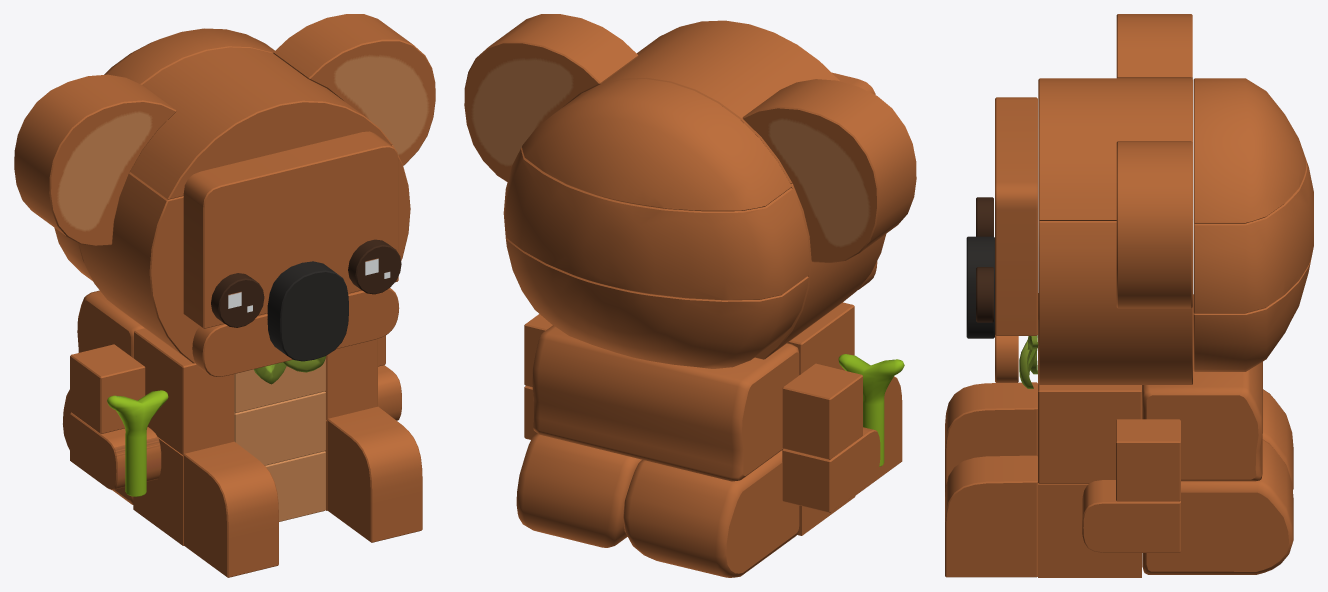
The model's file is level_184.fbx.
The picture shows the model from 3 angles, left to right: view 1: azimuth 30°, elevation 25°; view 2: azimuth 150°, elevation 25°; view 3: azimuth 270°, elevation 25°; orthographic projection. The views are drawn at different scales.
Parts seen in each view (by area): view 1: Cube_L1_4.003, Cube_L1_6.003, Cube_L1.003, Cube_L1_14.001, Cube_L1_1.003, Cube_L2_3.003, Cube_L2_15.001, Cube_L2_4.003, Cube_L1_3.003, Cube_L1_5.003, Cube_L2_8.002, Cube_L2_1.003 (+14 smaller); view 2: Cube_L1_8.002, Cube_L2_10.001, Cube_L1_7.002, Cube_L1.003, Cube_L1_9.002, Cube_L2_6.002, Cube_L1_14.001, Cube_L1_6.003, Cube_L2_12.001, Cube_L2_1.003, Cube_L2_2.003, Cube_L1_1.003 (+5 smaller); view 3: Cube_L1_13.001, Cube_L1_6.003, Cube_L1_7.002, Cube_L1_14.001, Cube_L2_12.001, Cube_L1_8.002, Cube_L2_15.001, Cube_L2_10.001, Cube_L1_4.003, Cube_L2_13.001, Cube_L2_3.003, Cube_L2_14.001 (+10 smaller).
Boxes of the visible parts, <box> form: Cube_L1_4.003: <box>183,131,398,328</box>; Cube_L1_6.003: <box>130,47,392,199</box>; Cube_L1.003: <box>14,74,176,246</box>; Cube_L1_14.001: <box>273,14,435,165</box>; Cube_L1_1.003: <box>79,172,199,363</box>; Cube_L2_3.003: <box>183,441,278,577</box>; Cube_L2_15.001: <box>327,406,422,542</box>; Cube_L2_4.003: <box>134,328,234,455</box>; Cube_L1_3.003: <box>267,261,348,361</box>; Cube_L1_5.003: <box>192,288,399,376</box>; Cube_L2_8.002: <box>234,391,325,465</box>; Cube_L2_1.003: <box>70,344,145,433</box>; Cube_L1_8.002: <box>503,148,809,300</box>; Cube_L2_10.001: <box>532,325,799,481</box>; Cube_L1_7.002: <box>522,79,791,211</box>; Cube_L1.003: <box>742,79,916,262</box>; Cube_L1_9.002: <box>505,230,808,368</box>; Cube_L2_6.002: <box>623,449,799,577</box>; Cube_L1_14.001: <box>464,14,638,181</box>; Cube_L1_6.003: <box>581,20,839,183</box>; Cube_L2_12.001: <box>516,433,641,547</box>; Cube_L2_1.003: <box>782,363,862,459</box>; Cube_L2_2.003: <box>782,427,880,512</box>; Cube_L1_1.003: <box>755,183,886,359</box>; Cube_L1_13.001: <box>1038,219,1192,384</box>; Cube_L1_6.003: <box>1038,78,1192,220</box>; Cube_L1_7.002: <box>1193,78,1306,223</box>; Cube_L1_14.001: <box>1116,141,1192,308</box>; Cube_L2_12.001: <box>1142,439,1293,574</box>; Cube_L1_8.002: <box>1193,157,1313,313</box>; Cube_L2_15.001: <box>945,455,1037,577</box>; Cube_L2_10.001: <box>1142,294,1262,481</box>; Cube_L1_4.003: <box>995,97,1037,335</box>; Cube_L2_13.001: <box>1038,366,1141,483</box>; Cube_L2_3.003: <box>945,382,1037,496</box>; Cube_L2_14.001: <box>1038,483,1141,577</box>.
Bounding box in the file's own units: 16.78 × 17.49 × 13.3.
